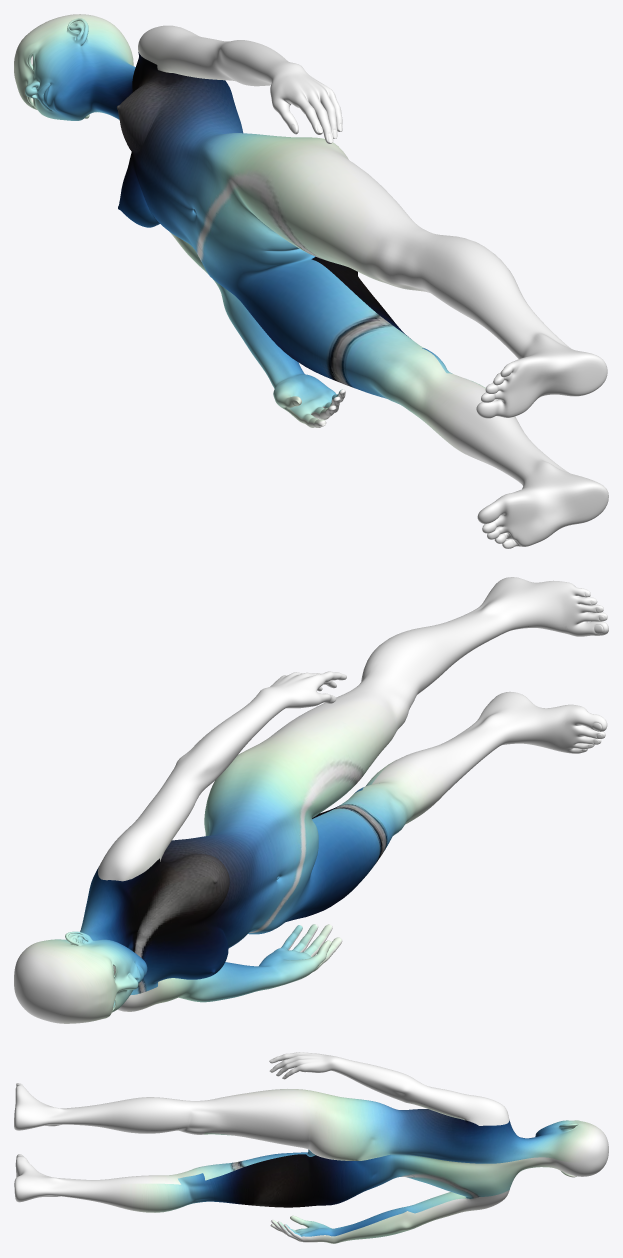
File: Woman_Body.003.gltf
3 views of the same model, one above another, from view 1: azimuth 30°, elevation 25°; view 2: azimuth 150°, elevation 25°; view 3: azimuth 270°, elevation 25° (orthographic). The views are drawn at different scales.
Parts seen in each view (by area): view 1: Woman_Body.003; view 2: Woman_Body.003; view 3: Woman_Body.003.
Boxes of the visible parts, bbox=[...] form: Woman_Body.003: bbox=[14, 14, 608, 548]; Woman_Body.003: bbox=[14, 577, 608, 1023]; Woman_Body.003: bbox=[14, 1052, 608, 1243].
Size of the model in its own units: 5.1 by 10.31 by 30.2.
Materials: 1 (1 with a texture image).
